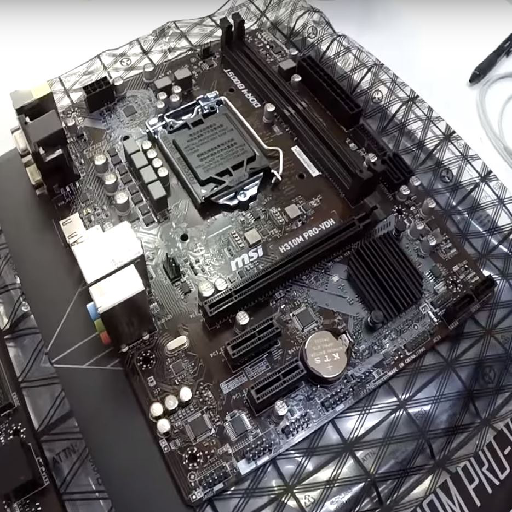CPU: (147, 89, 284, 210)
GPU: (196, 210, 392, 330)
MOTHERBOARD: (14, 14, 500, 505)
RAM: (213, 13, 377, 202)
